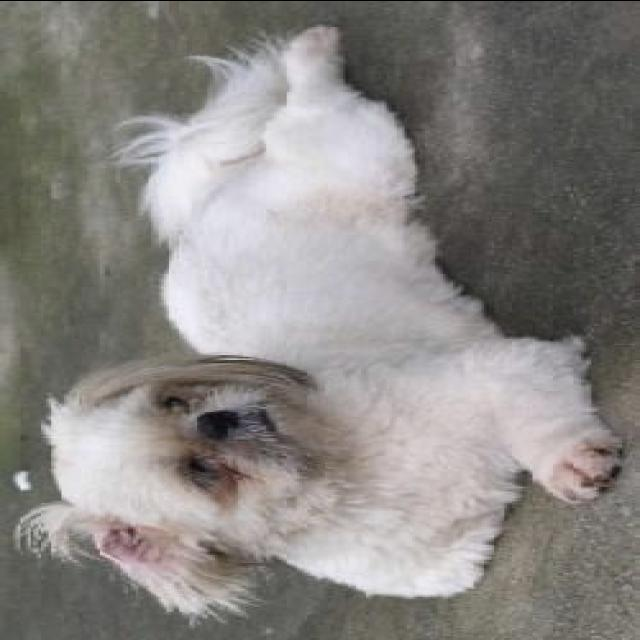shih_tzu: (5, 18, 622, 619)
